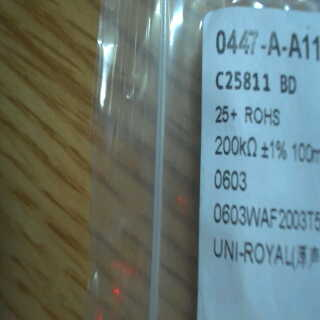200kR: (212, 133, 259, 162)
